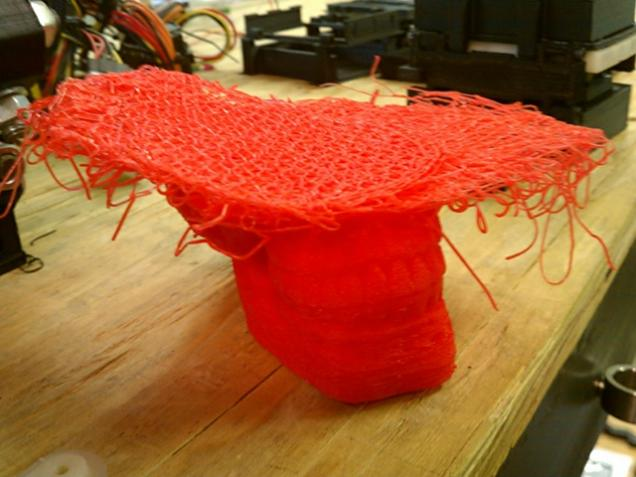Printing-Artifact: (0, 79, 250, 286), (438, 92, 612, 284)
